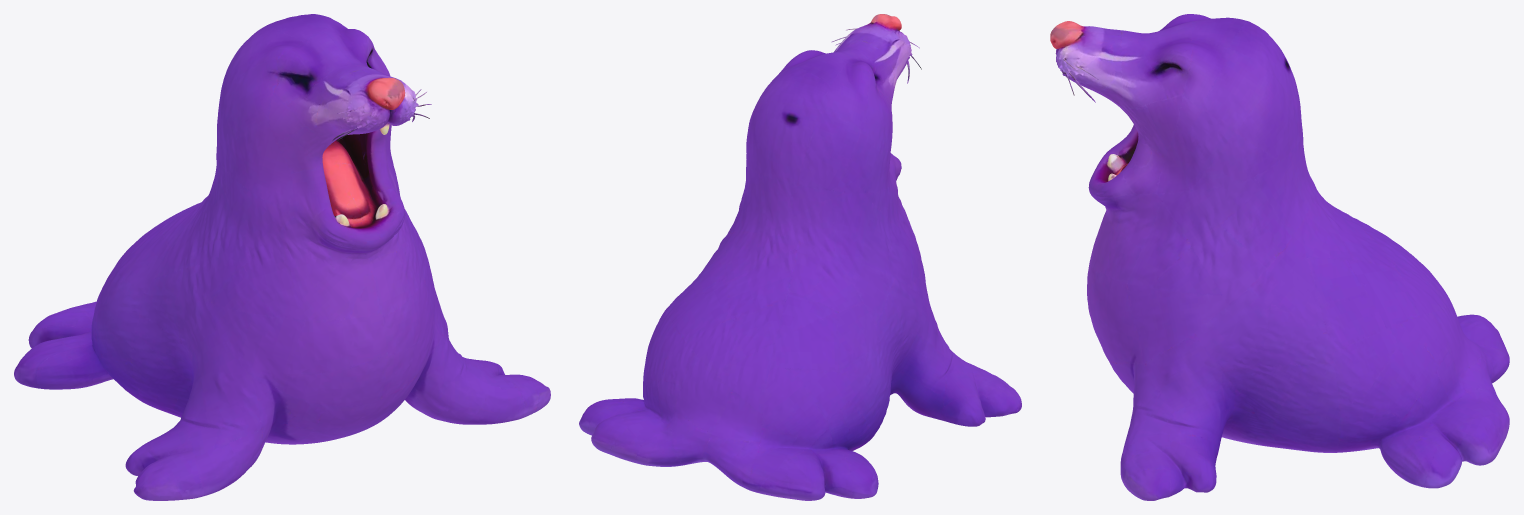
File: 3d_yelp.glb
3 renders of one model, left to right at view 1: azimuth 30°, elevation 25°; view 2: azimuth 150°, elevation 25°; view 3: azimuth 270°, elevation 25°, orthographic. The views are drawn at different scales.
Size of the model in its own units: 1.88 by 1.79 by 1.9.
1 material, 1 textured.
